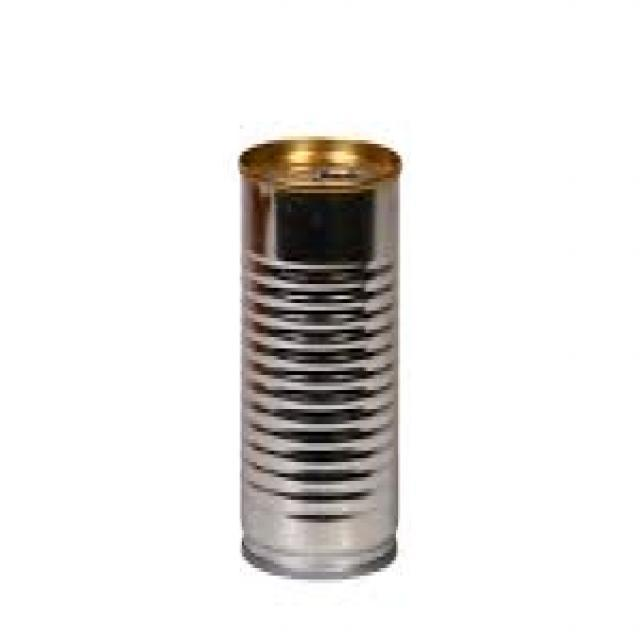recyclable: (236, 139, 403, 582)
